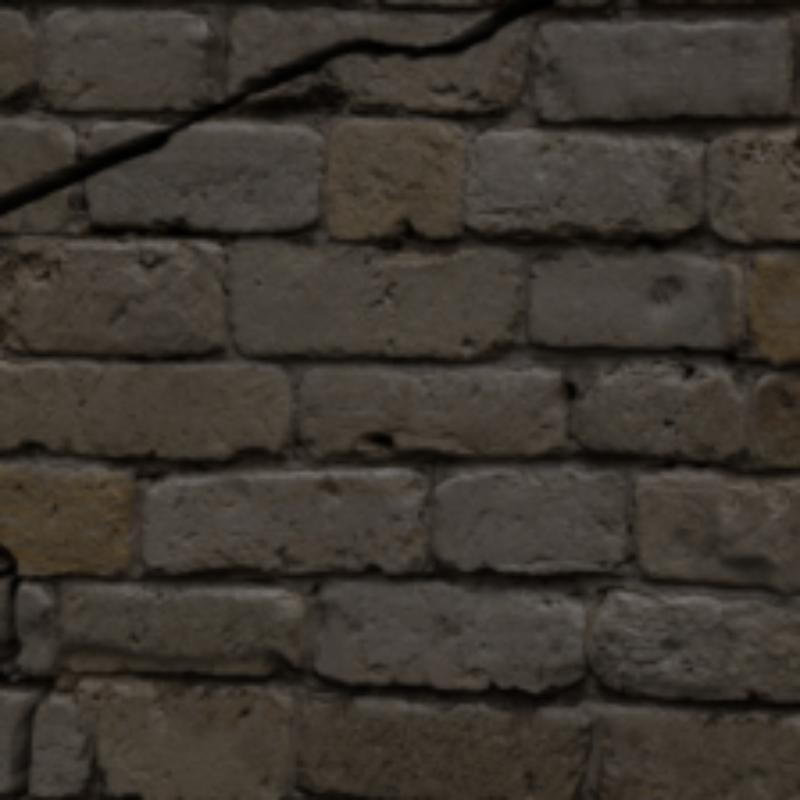crack: (0, 0, 554, 214), (0, 543, 50, 796)
